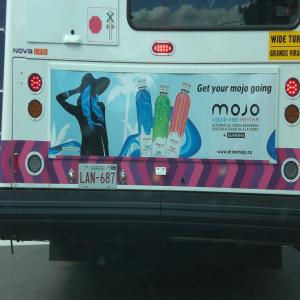Vehicle-registration-plate: (80, 164, 118, 191)
